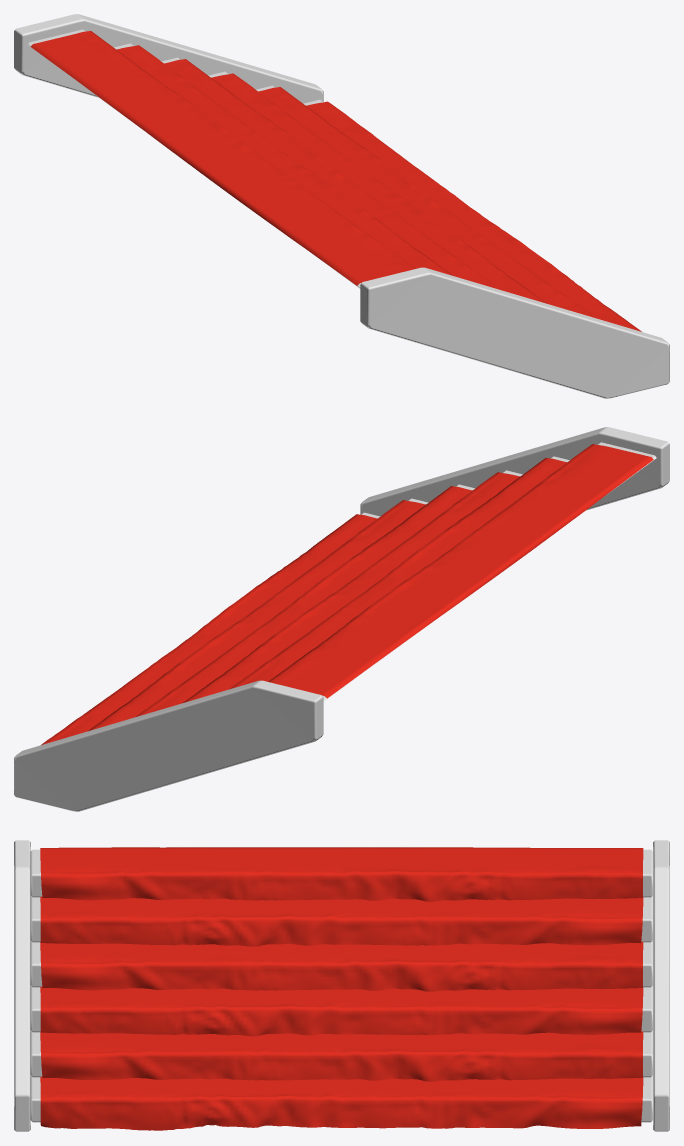
The model's file is Table_1.fbx.
3 renders of one model, top to bottom at view 1: azimuth 30°, elevation 25°; view 2: azimuth 150°, elevation 25°; view 3: azimuth 270°, elevation 25°, orthographic. The views are drawn at different scales.
Parts seen in each view (by area): view 1: Cloth_001, WoodPlanks; view 2: Cloth_001, WoodPlanks; view 3: Cloth_001, WoodPlanks.
Part boxes in pixels (<box>): Cloth_001: <box>30,31,641,331</box>; WoodPlanks: <box>14,14,669,398</box>; Cloth_001: <box>41,444,653,744</box>; WoodPlanks: <box>14,427,669,811</box>; Cloth_001: <box>40,847,643,1130</box>; WoodPlanks: <box>14,840,669,1131</box>.
Bounding box in the file's own units: 792 × 417 × 1575.
